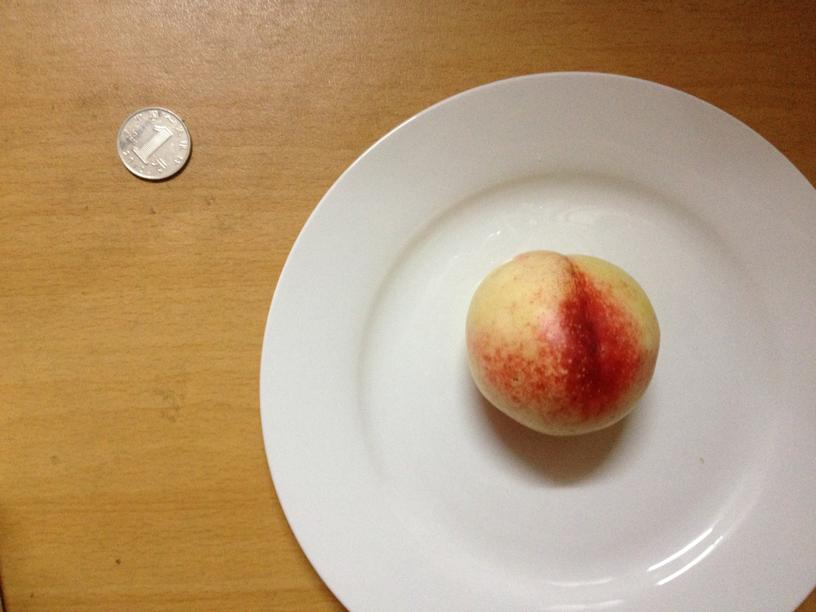coin: (115, 107, 191, 180)
peach: (468, 247, 660, 438)
